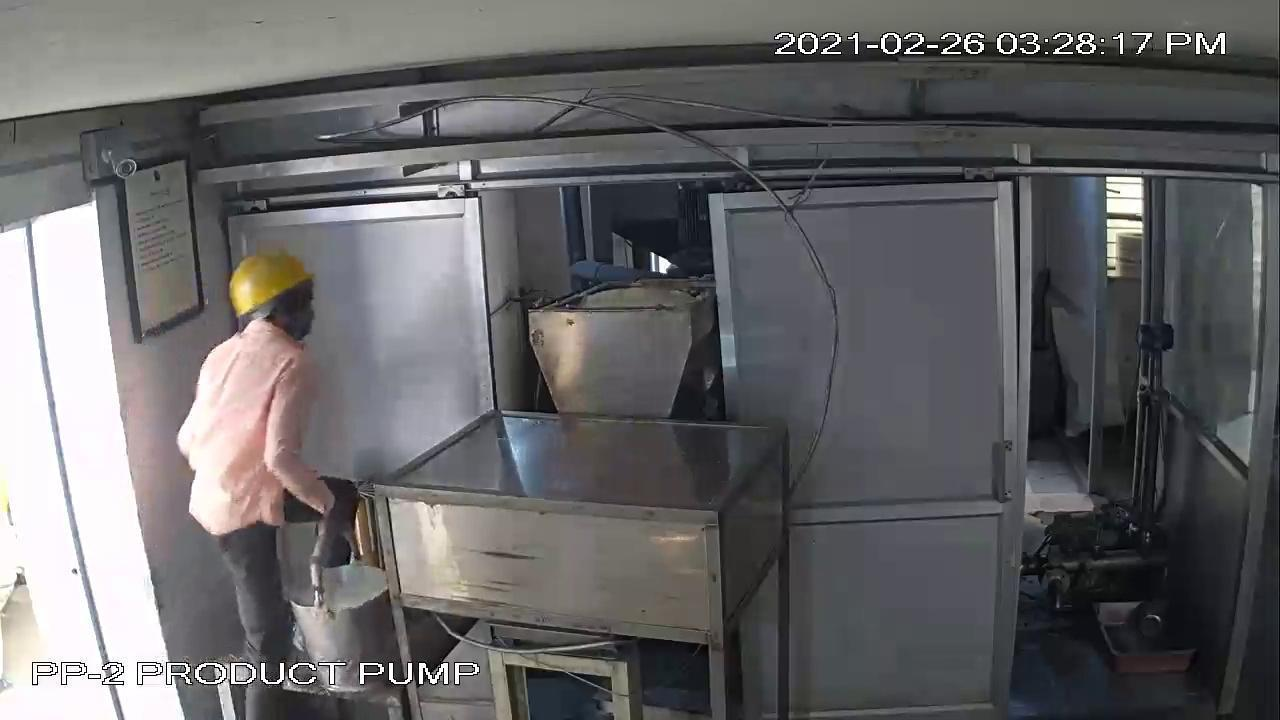helmet: (216, 241, 317, 314)
